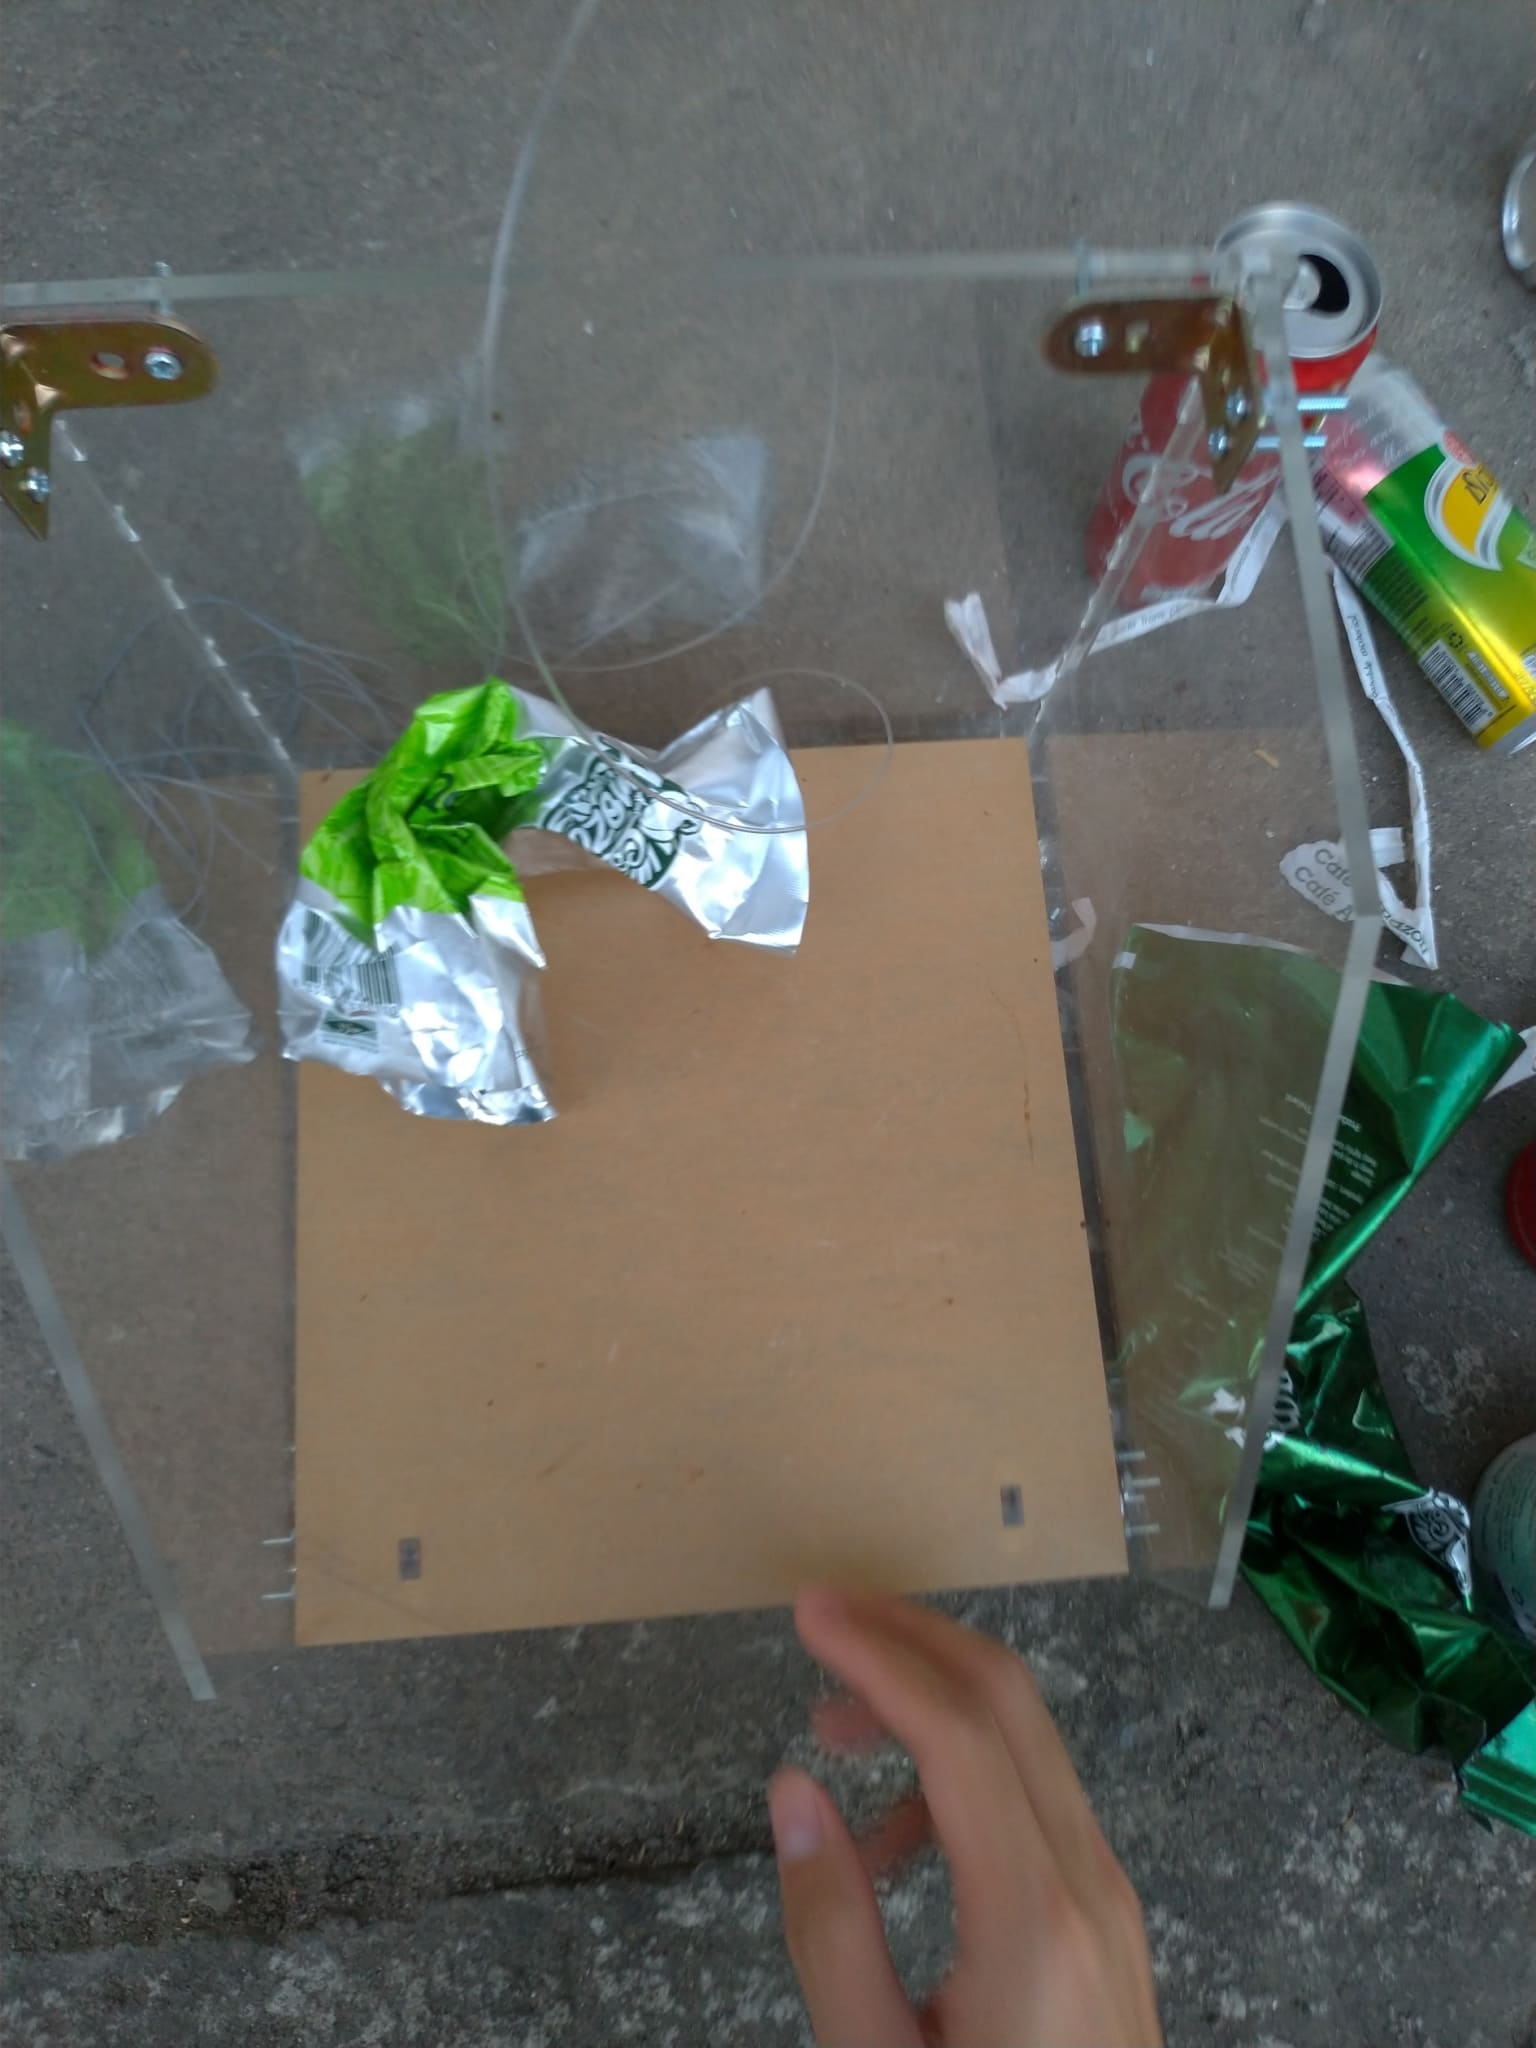AlCan: (1096, 206, 1383, 600), (1296, 355, 1536, 743)
Others: (1100, 911, 1536, 1821), (273, 676, 816, 1130), (945, 498, 1288, 711), (1284, 563, 1455, 972)
